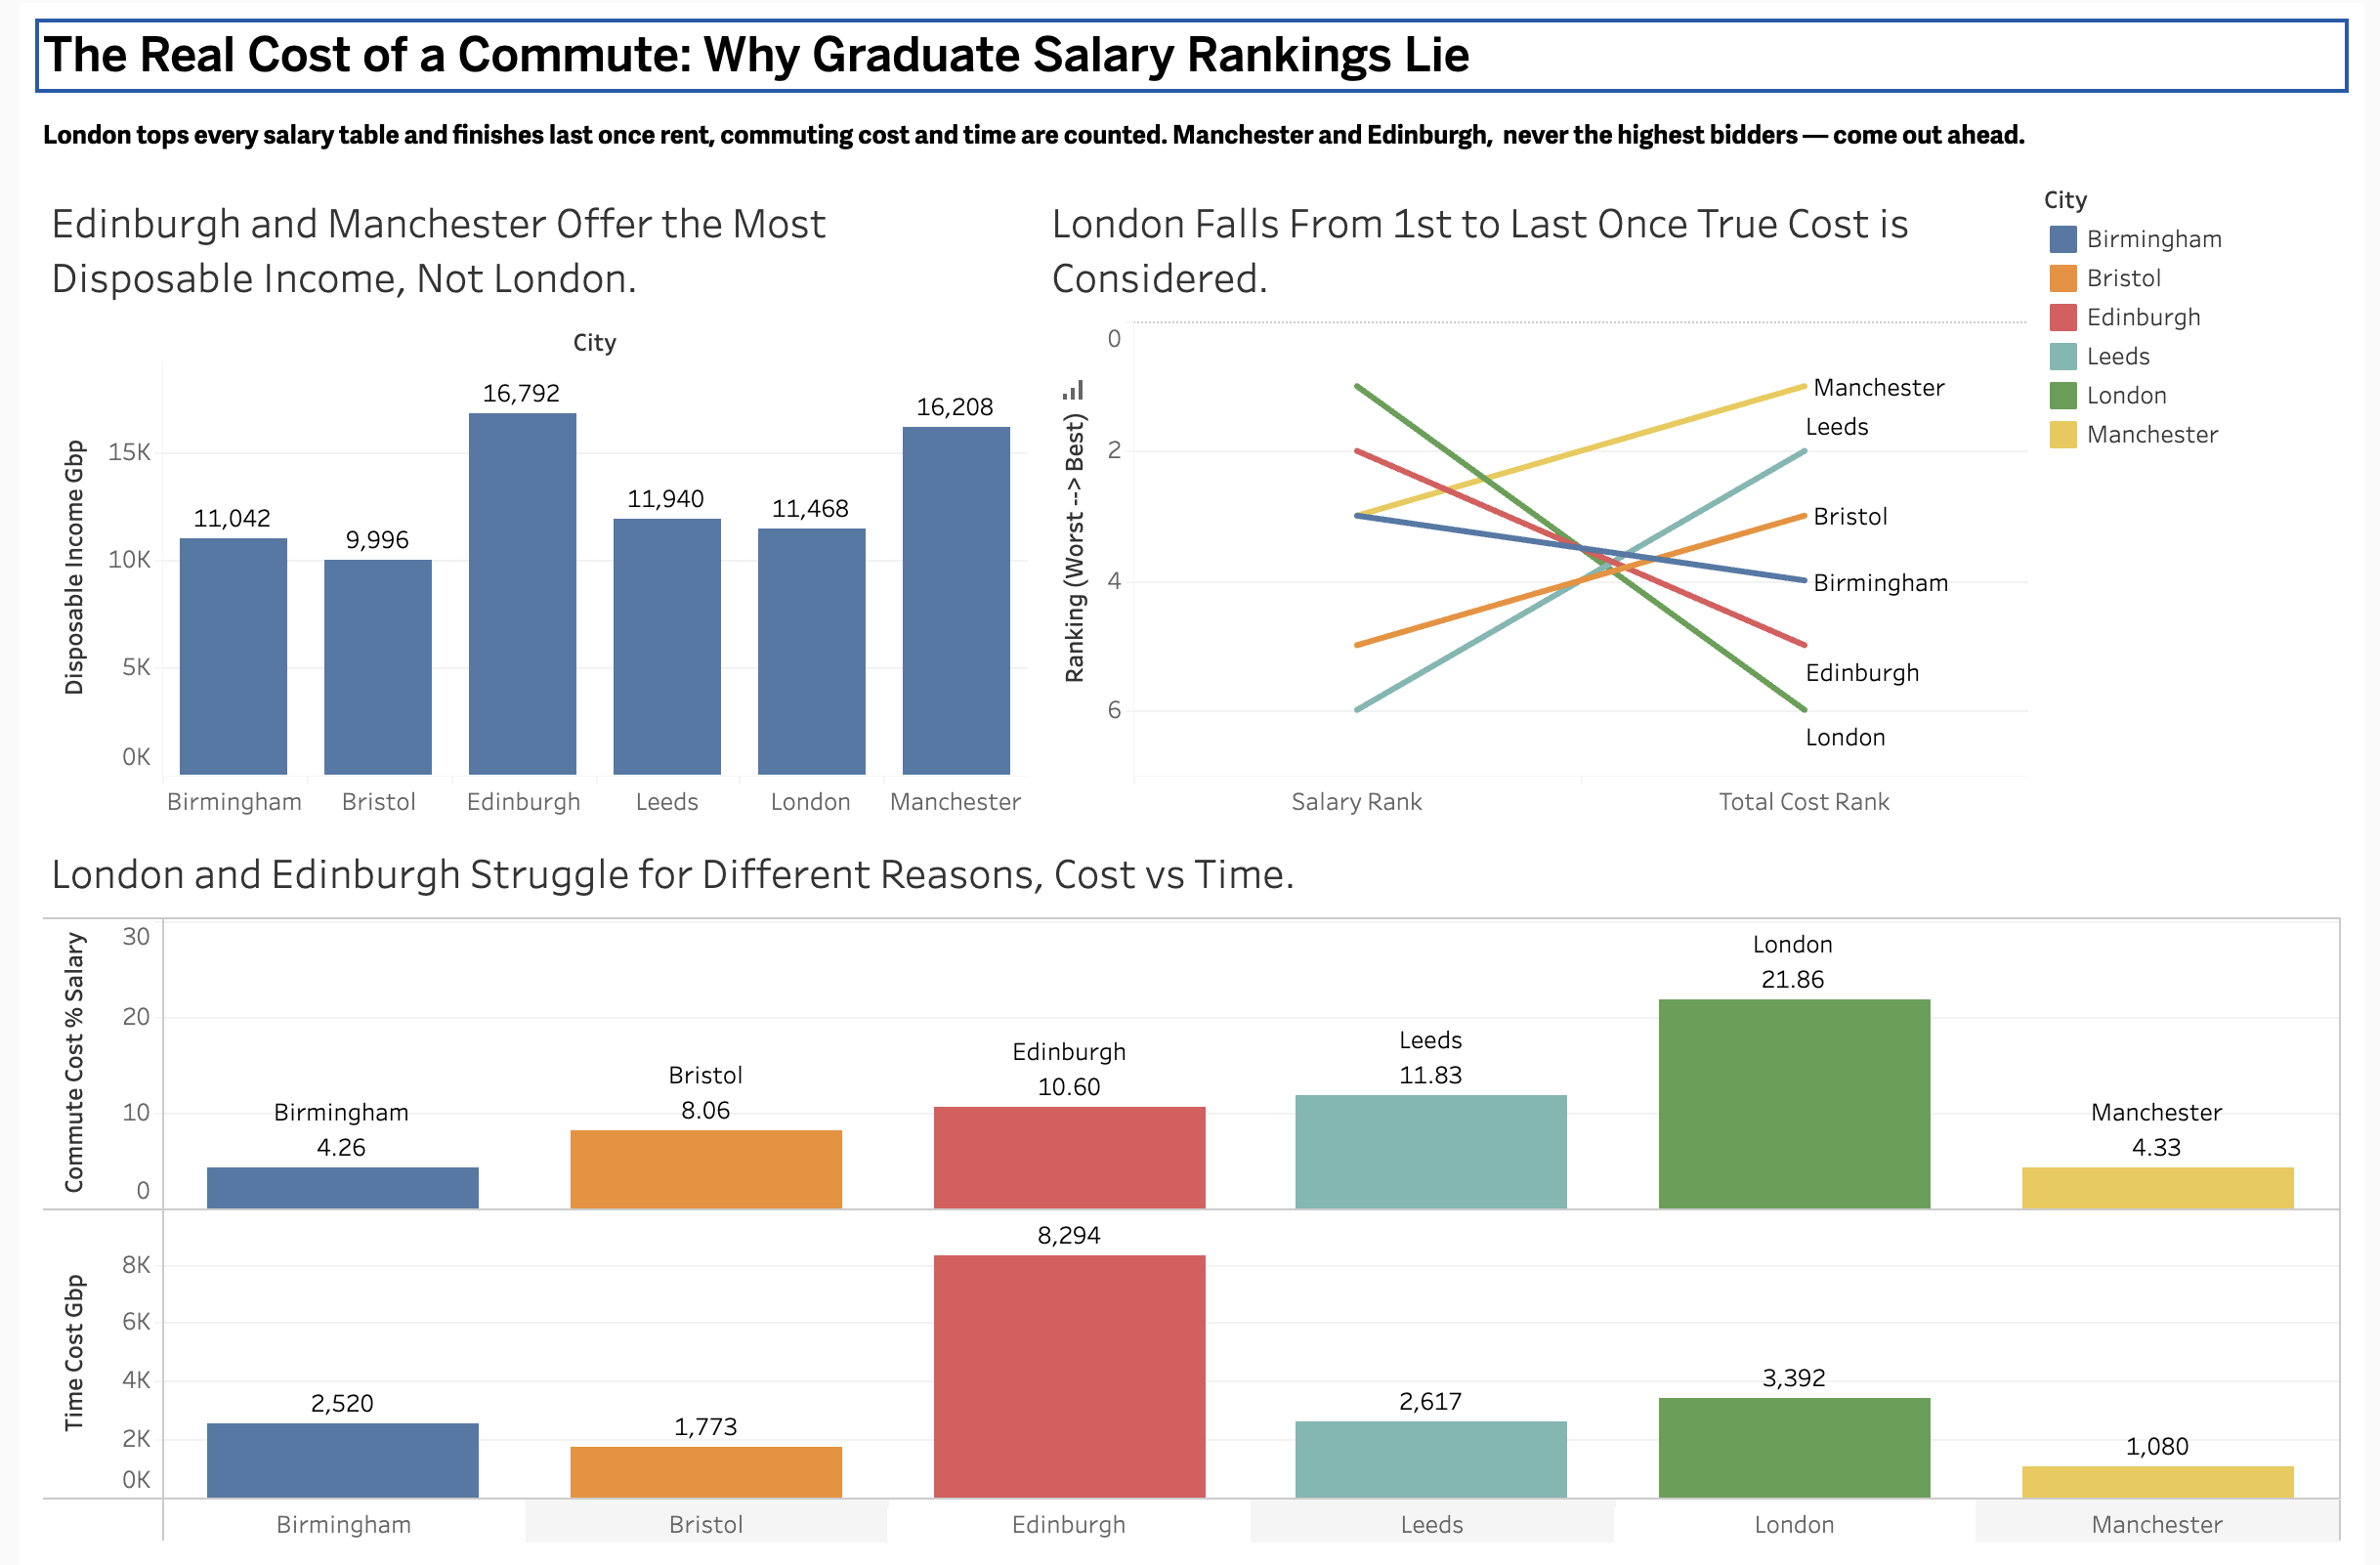

Layout of this report page (visuals, bound fields, positions):
{"tool":"tableau","page":{"name":"Dashboard 1","canvas":[1200,800],"ordinal":0},"visuals":[{"type":"title","box":[8,8,1184,37]},{"type":"text","box":[8,45,1184,34]},{"type":"worksheet","title":"Disposable Income by City ","mark":"Automatic","rows":["disposable_income_gbp"],"cols":["city"],"box":[8,79,512,337.7]},{"type":"worksheet","title":"Salary Rank vs Total Total Cost Rank (slope chart)","mark":"Line","rows":["Pivot Field Values"],"cols":["Pivot Field Names"],"box":[520,79,512,337.7]},{"type":"legend","title":"Salary Rank vs Total Total Cost Rank (slope chart)","param":"[federated.1dt5ah21lz2guu12zfjmv1cyqhhh].[none:city:nk]","box":[1032,79,160,146]},{"type":"worksheet","title":"Commute Cost Burden vs Time Cost (dual comparison)","mark":"Automatic","rows":["commute_cost_pct_salary","time_cost_gbp"],"cols":["city"],"box":[8,416.7,1184,375.3]}]}

Visuals, with their boxes in screenshot pixels (x1, y1, x2, y2), scaled from the page's 1200x800 canvas onto the 2380x1565 screenshot:
title: BBox(16, 16, 2364, 88)
text: BBox(16, 88, 2364, 154)
"Disposable Income by City " worksheet: BBox(16, 154, 1032, 815)
"Salary Rank vs Total Total Cost Rank (slope chart)" worksheet (Line marks): BBox(1032, 154, 2047, 815)
"Salary Rank vs Total Total Cost Rank (slope chart)" legend: BBox(2047, 154, 2364, 441)
"Commute Cost Burden vs Time Cost (dual comparison)" worksheet: BBox(16, 815, 2364, 1549)
